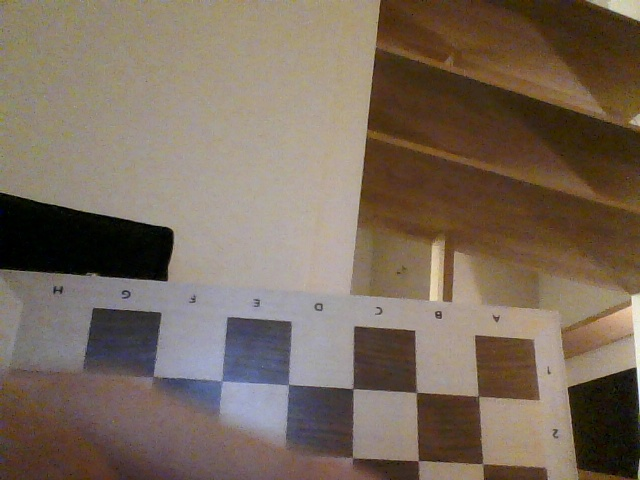schaak: (1, 268, 579, 479)
